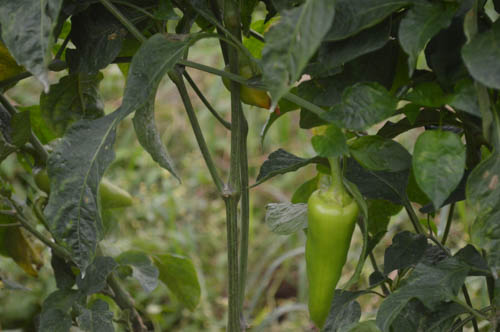ChiliPepper: (305, 193, 359, 332)
